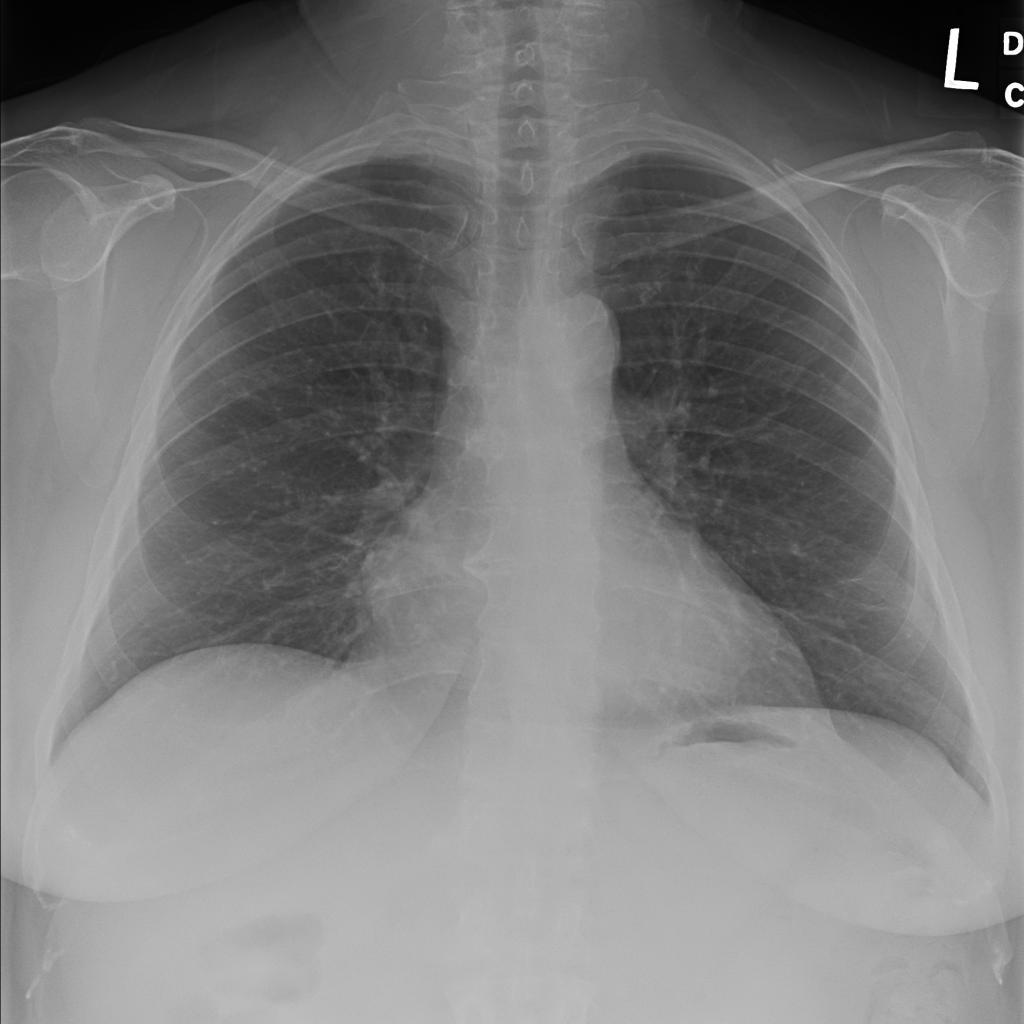Nodule: (175, 317, 221, 365), (333, 185, 373, 225)
